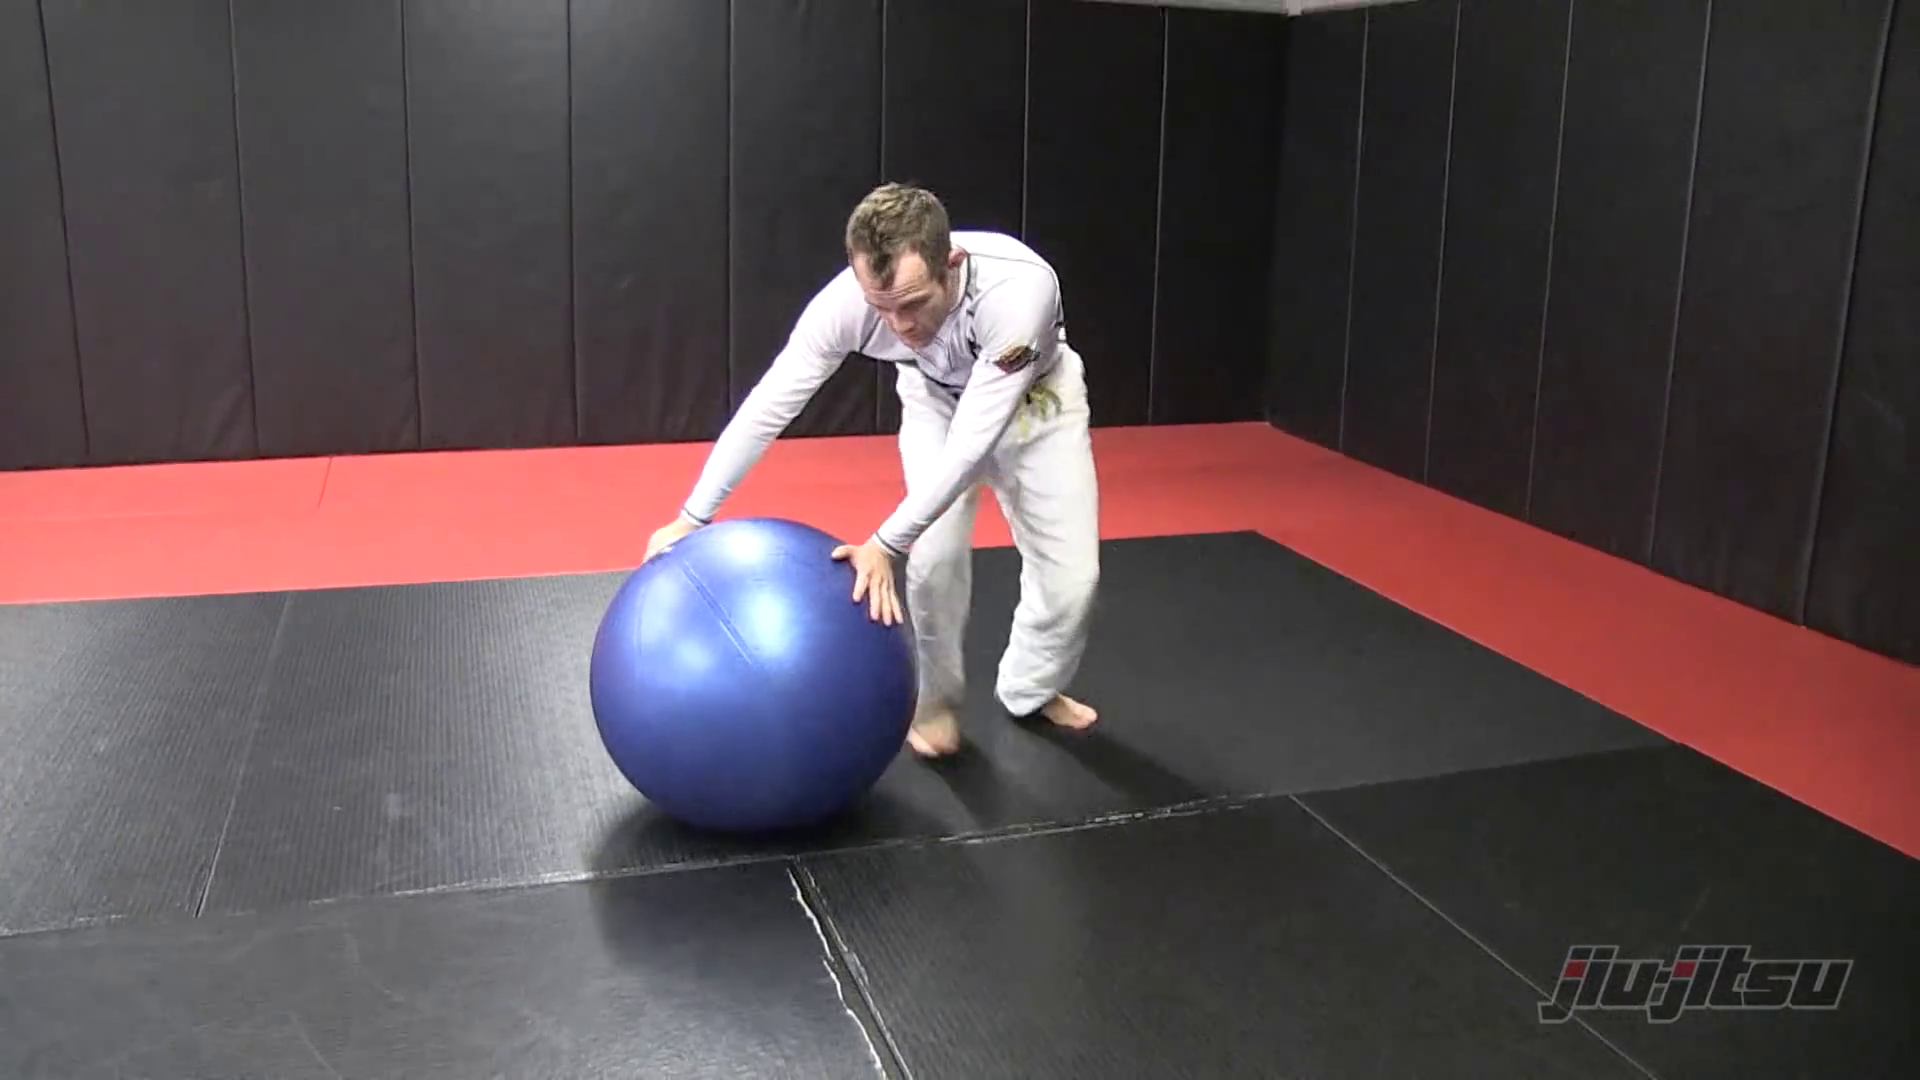yogaball: (576, 508, 934, 857)
